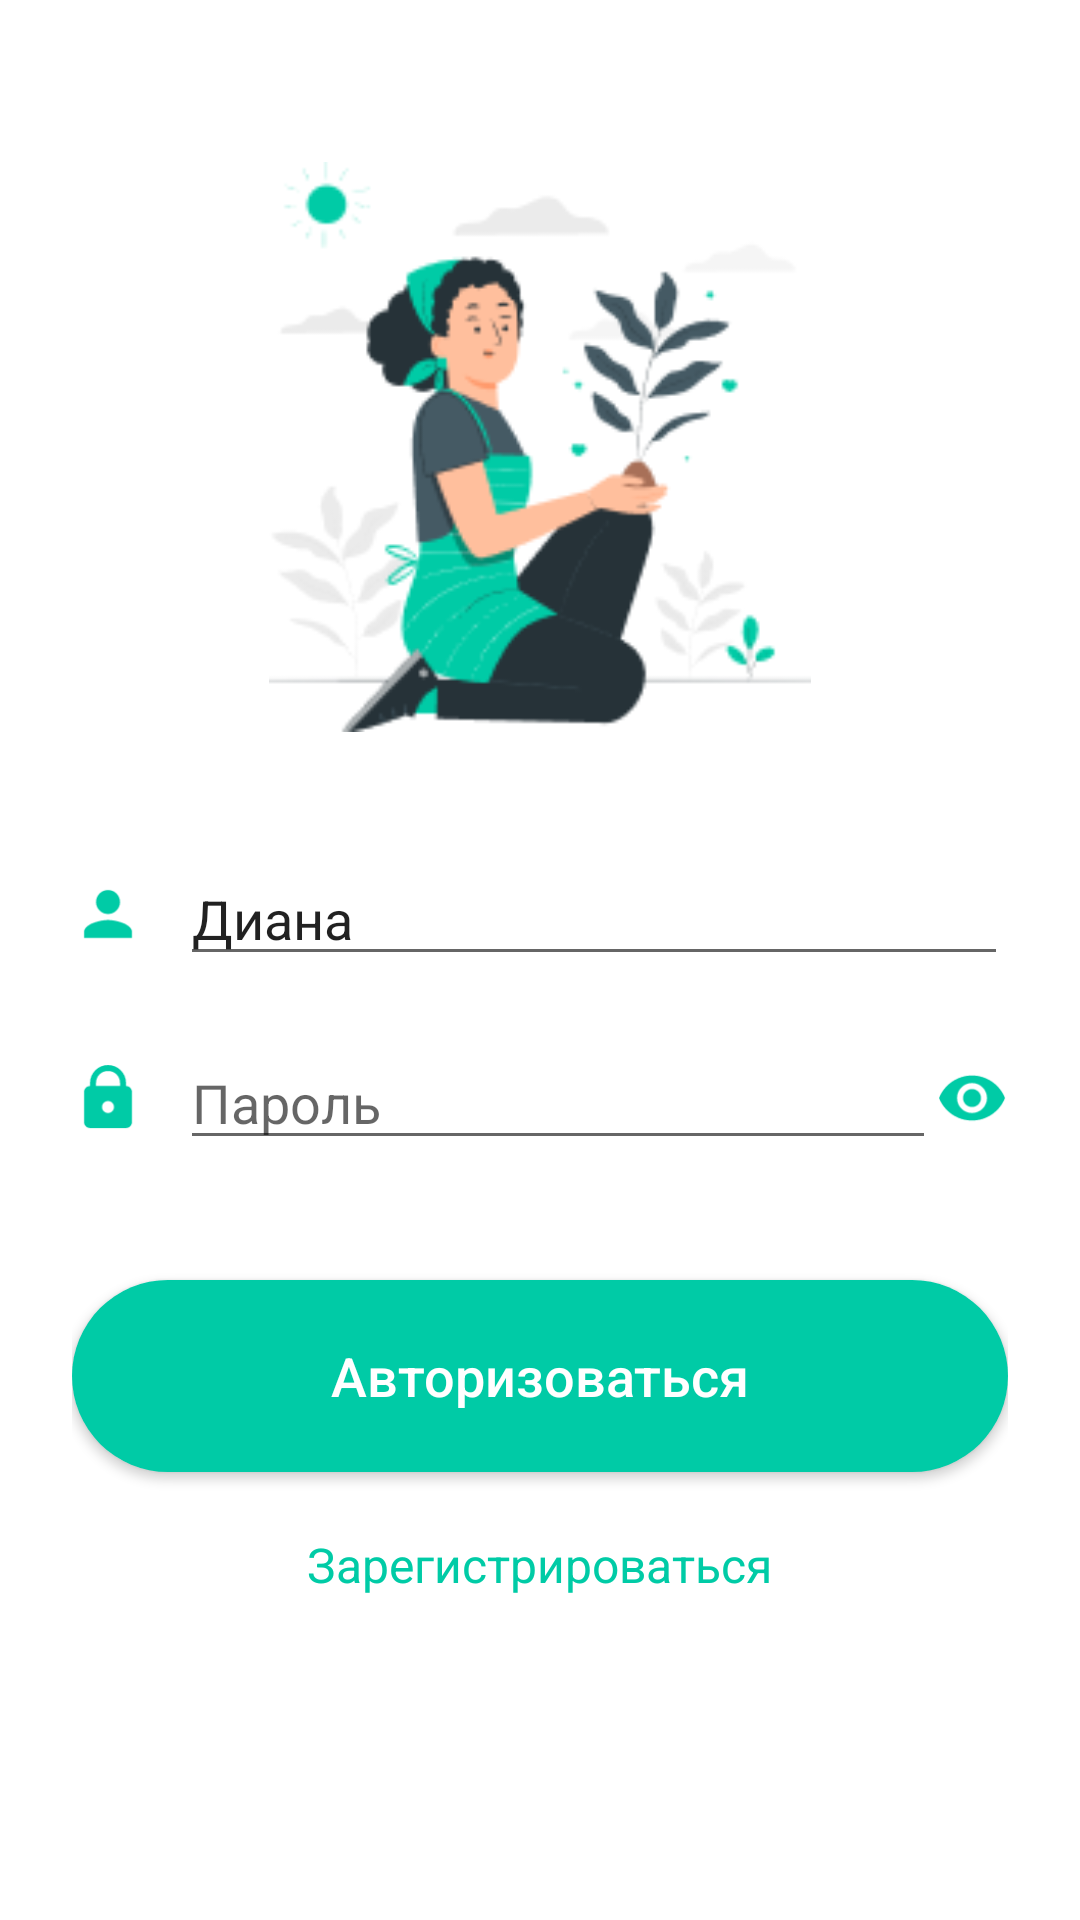

Point at icon controls on the screen. Image size 1080*1920, points as (x=x, y=y).
lock: (x=108, y=1097)
person: (x=108, y=914)
